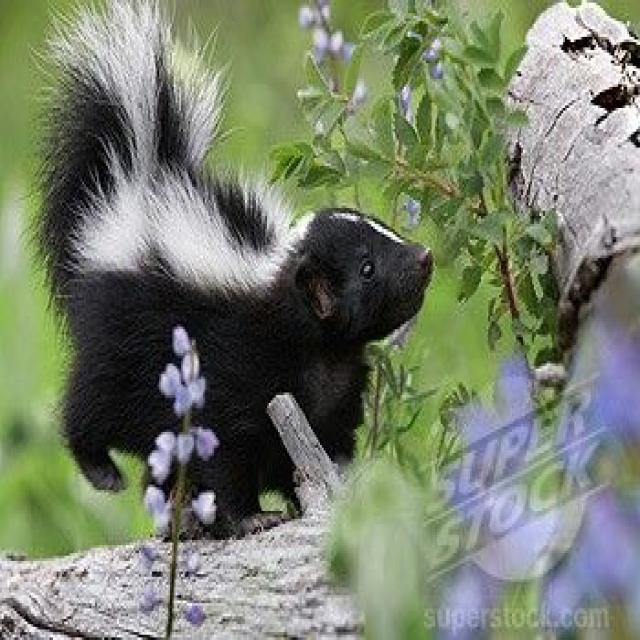Skunk: (31, 0, 441, 535)
